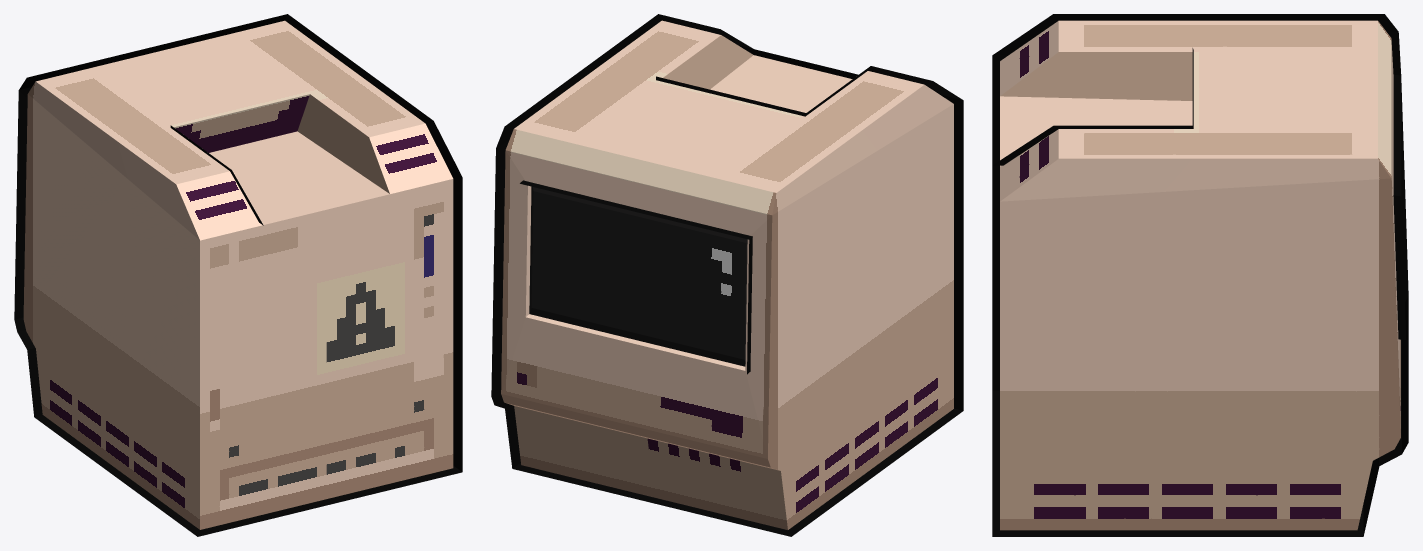
File: old_computer.glb
3 renders of one model, left to right at view 1: azimuth 30°, elevation 25°; view 2: azimuth 150°, elevation 25°; view 3: azimuth 270°, elevation 25°, orthographic. The views are drawn at different scales.
Visible parts, largest first — view 1: cuboid_1, cuboid_outline_0; view 2: cuboid_1, cuboid_outline_0; view 3: cuboid_1, cuboid_outline_0.
Part boxes in pixels (<box>): cuboid_1: <box>23,20,453,529</box>; cuboid_outline_0: <box>14,14,462,536</box>; cuboid_1: <box>501,20,953,529</box>; cuboid_outline_0: <box>491,14,963,536</box>; cuboid_1: <box>1000,20,1400,530</box>; cuboid_outline_0: <box>992,14,1408,536</box>.
Size of the model in its own units: 0.85 by 1.02 by 1.02.
2 materials, 2 textured.
